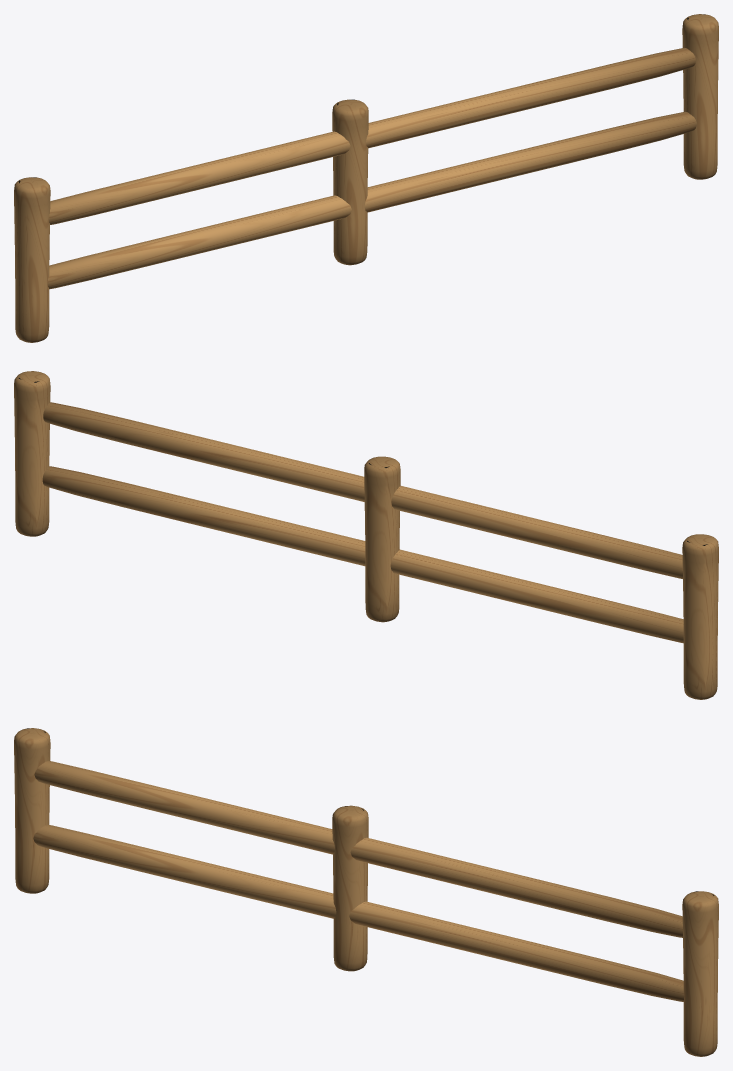
Rendered from fence2.glb.
3 renders of one model, top to bottom at view 1: azimuth 30°, elevation 25°; view 2: azimuth 150°, elevation 25°; view 3: azimuth 330°, elevation 25°, orthographic.
Visible parts, largest first — view 1: Cube.002, Cube.003, Cube.010, Cube.028, Cube.004; view 2: Cube.002, Cube.003, Cube.010, Cube.028, Cube.004; view 3: Cube.002, Cube.003, Cube.028, Cube.010, Cube.004.
Boxes of the visible parts, x1,y1,x2,y2 form: Cube.002: [47, 111, 696, 289]; Cube.003: [48, 48, 695, 224]; Cube.010: [14, 177, 50, 342]; Cube.028: [682, 14, 718, 179]; Cube.004: [332, 99, 368, 265]; Cube.002: [42, 466, 683, 643]; Cube.003: [43, 402, 682, 578]; Cube.010: [682, 534, 718, 699]; Cube.028: [14, 371, 50, 536]; Cube.004: [364, 456, 400, 622]; Cube.002: [33, 824, 684, 1001]; Cube.003: [34, 760, 682, 937]; Cube.028: [682, 891, 718, 1056]; Cube.010: [14, 728, 50, 893]; Cube.004: [332, 805, 368, 971].
Size of the model in its own units: 7.68 by 1.65 by 0.345.
Materials: 1 (1 with a texture image).
